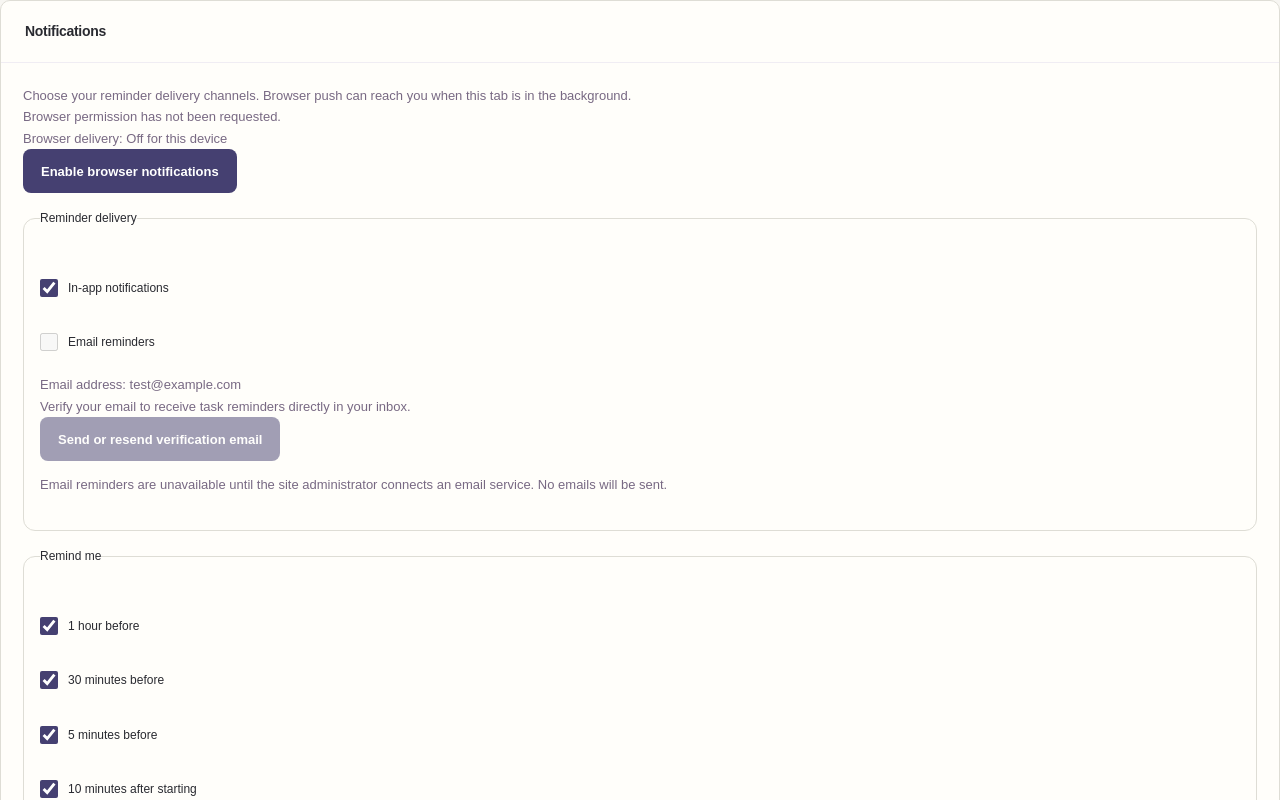
Test: notification controls › does not report success when subscription registration fails
The image size is (1280, 800).
Click the button "Enable browser notifications" at (130, 171), box [23,149,237,193]
(page scrolled)
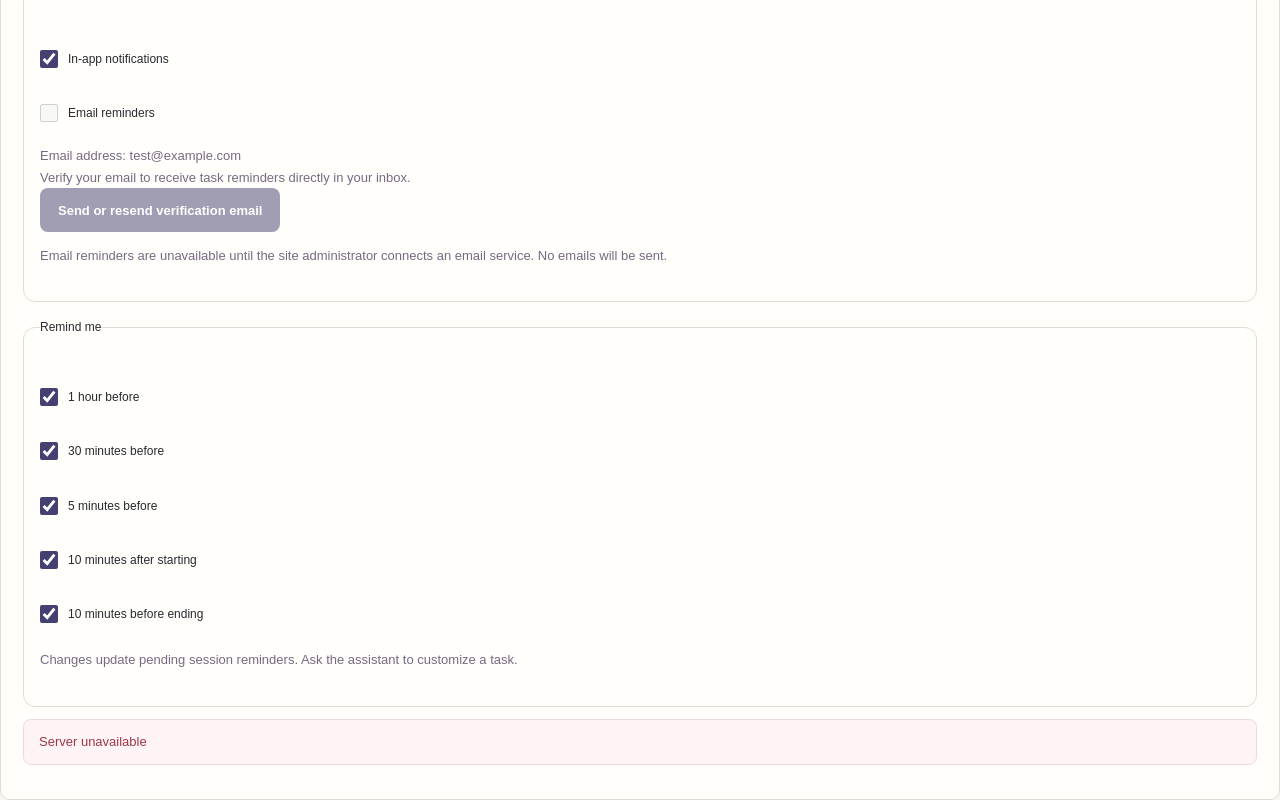
Expected: the message "Server unavailable" is shown, [23,718,1257,765]
